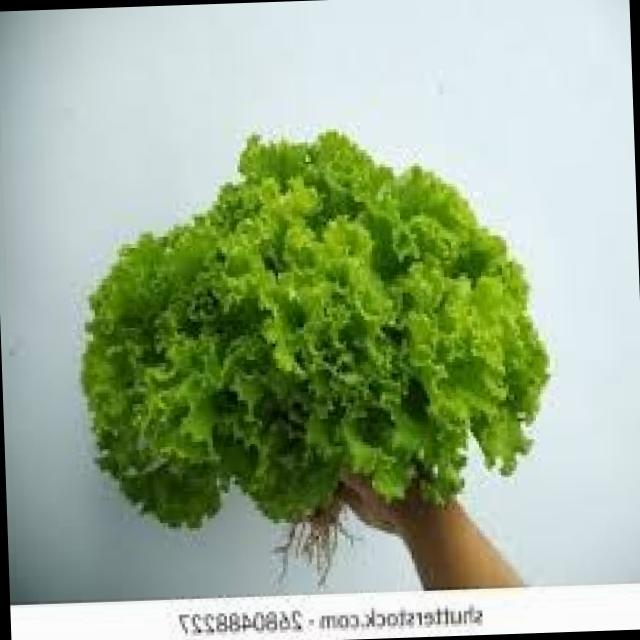lista_para_cosechar: (83, 131, 550, 575)
